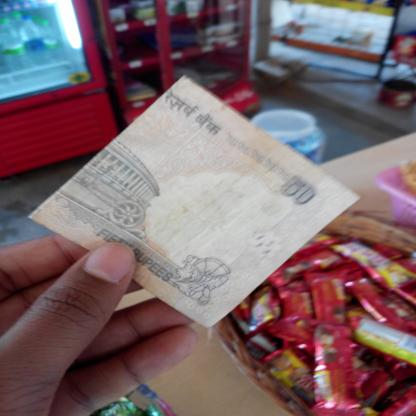Old50Back: (26, 74, 361, 329)
